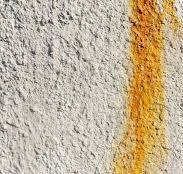Corrosion: (110, 1, 183, 174)
